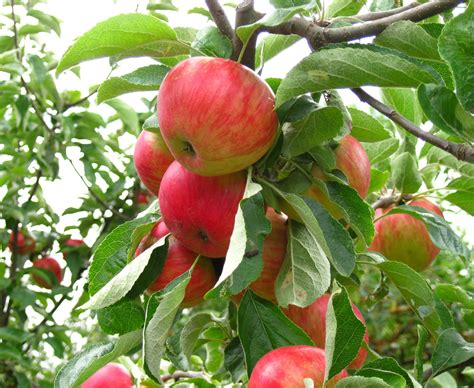apple: (153, 52, 284, 180)
